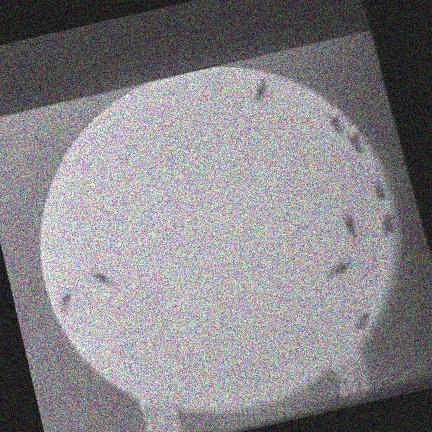fly: (326, 258, 351, 278), (90, 269, 114, 285), (343, 212, 357, 237), (349, 132, 366, 152), (329, 113, 345, 134), (60, 288, 73, 313), (255, 76, 267, 102), (382, 212, 394, 235), (356, 310, 369, 330), (374, 180, 386, 201)
